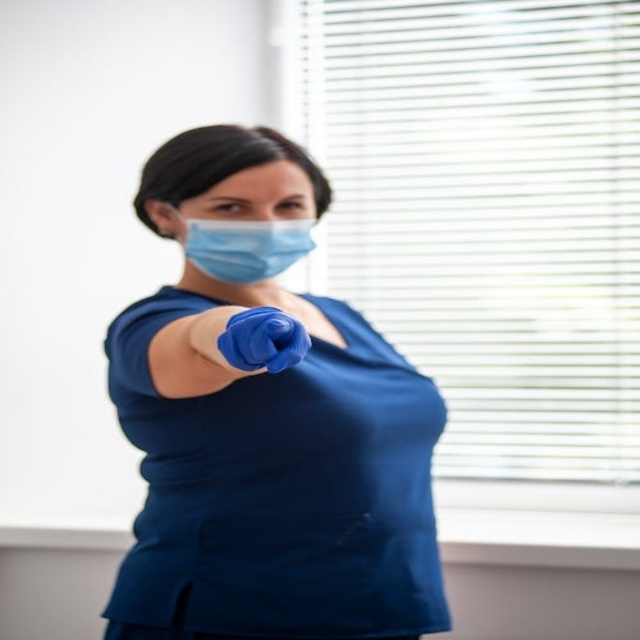Guantes: (214, 305, 312, 374)
Mascara: (177, 209, 317, 284)
Sin_gafas: (193, 190, 315, 218)
